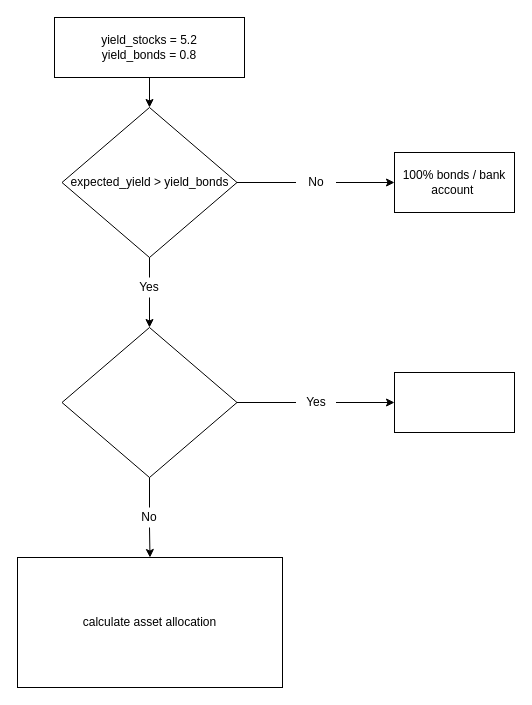
Some shapes in this 532 by 705 pixel diagram are drawn without their labels. The centre of each missing label's shape, as x and y in pixels:
expected_yield > yield_stocks: [149,402]
use yield_stocks as value as mean is lower than expectation: [454,402]
